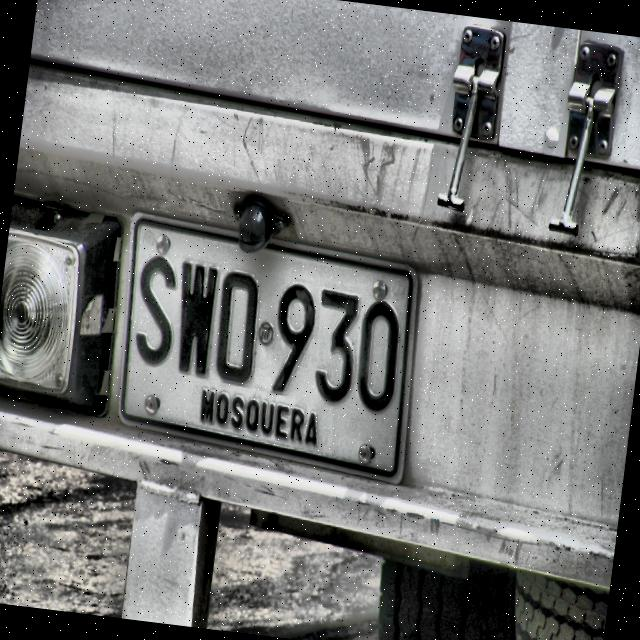plate: (118, 211, 420, 486)
